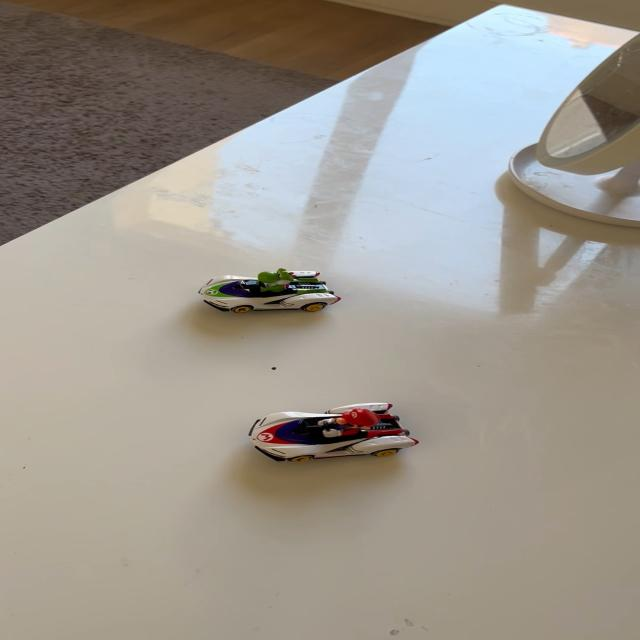mario: (233, 400, 423, 466)
yoshi: (190, 258, 357, 319)
